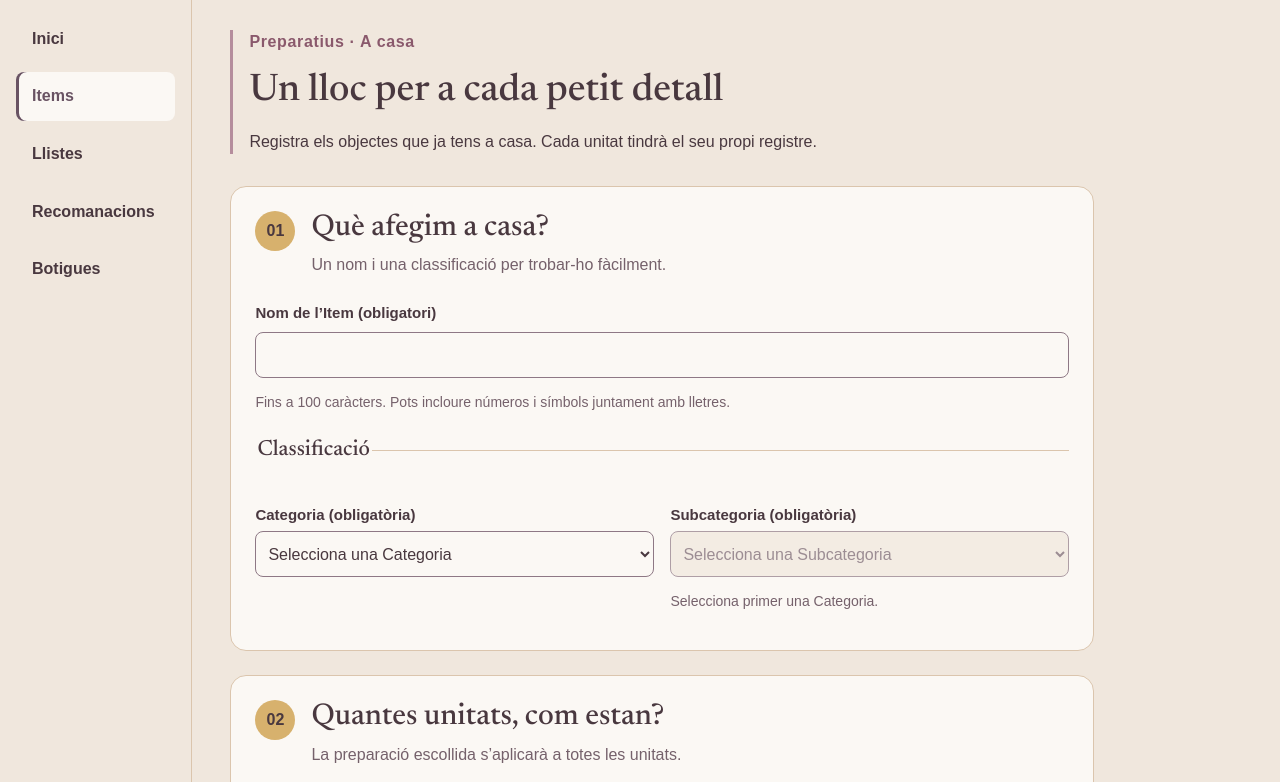
Test: errors servidor conserven dades i focus
Type "Body" into the field labelled "Nom de l’Item (obligatori)".
click(662, 355); type("Body")  # box 255,332 -> 1069,378
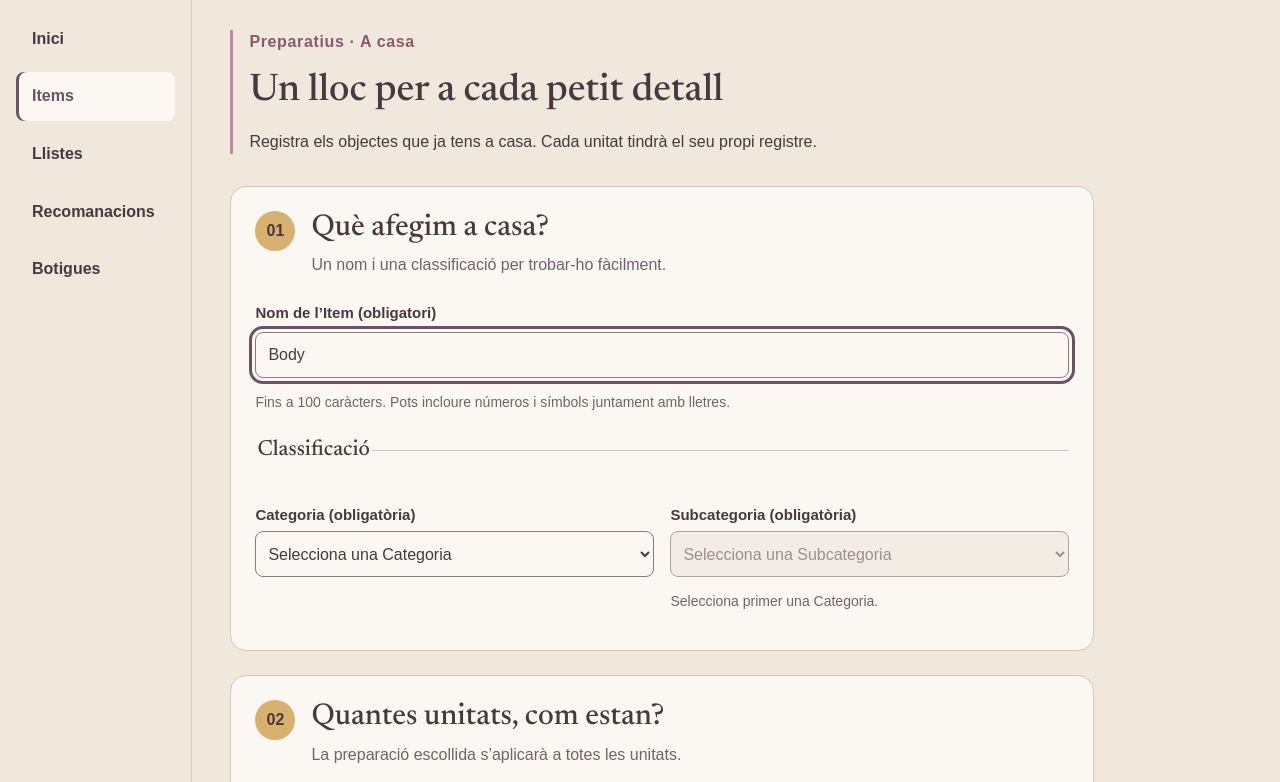
Select "Roba" in the dropdown labelled "Categoria (obligatòria)" at (455, 554), box 255,531 -> 654,577
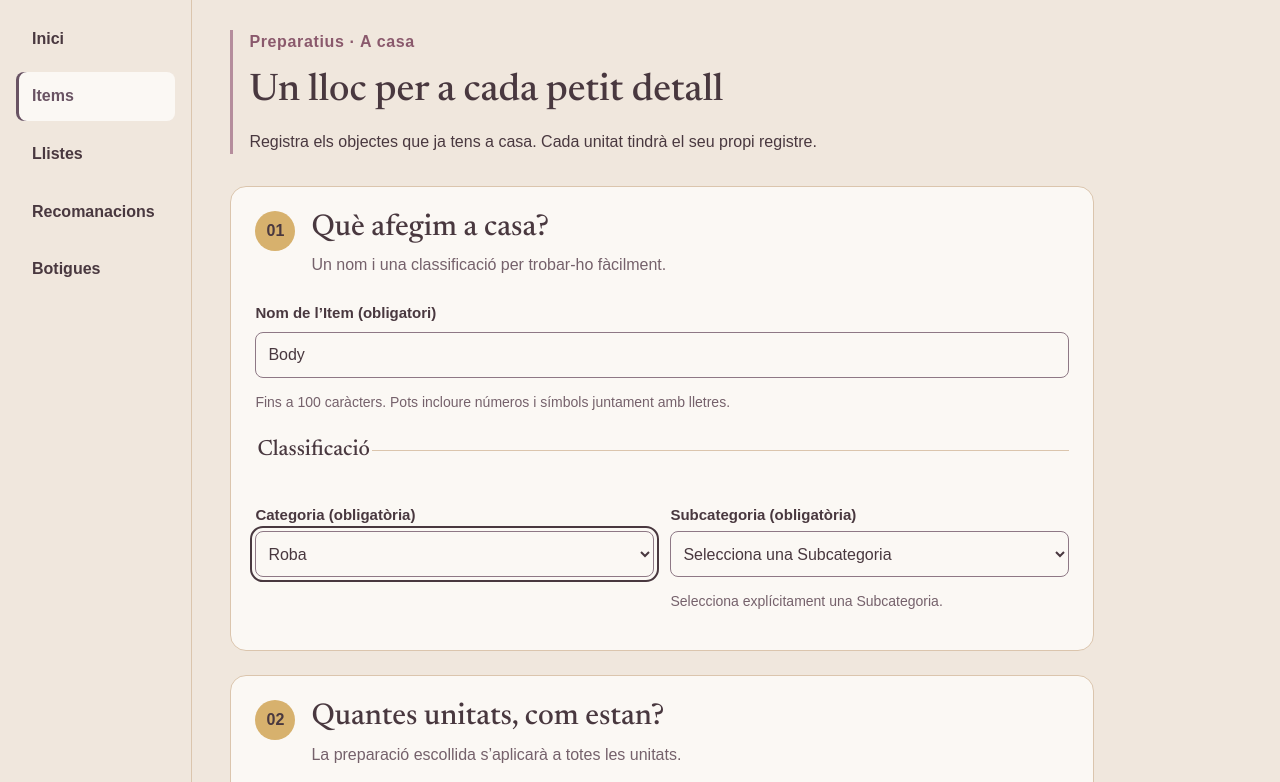
Select "Bodies" in the dropdown labelled "Subcategoria (obligatòria)" at (870, 554), box 670,531 -> 1069,577
(page scrolled)
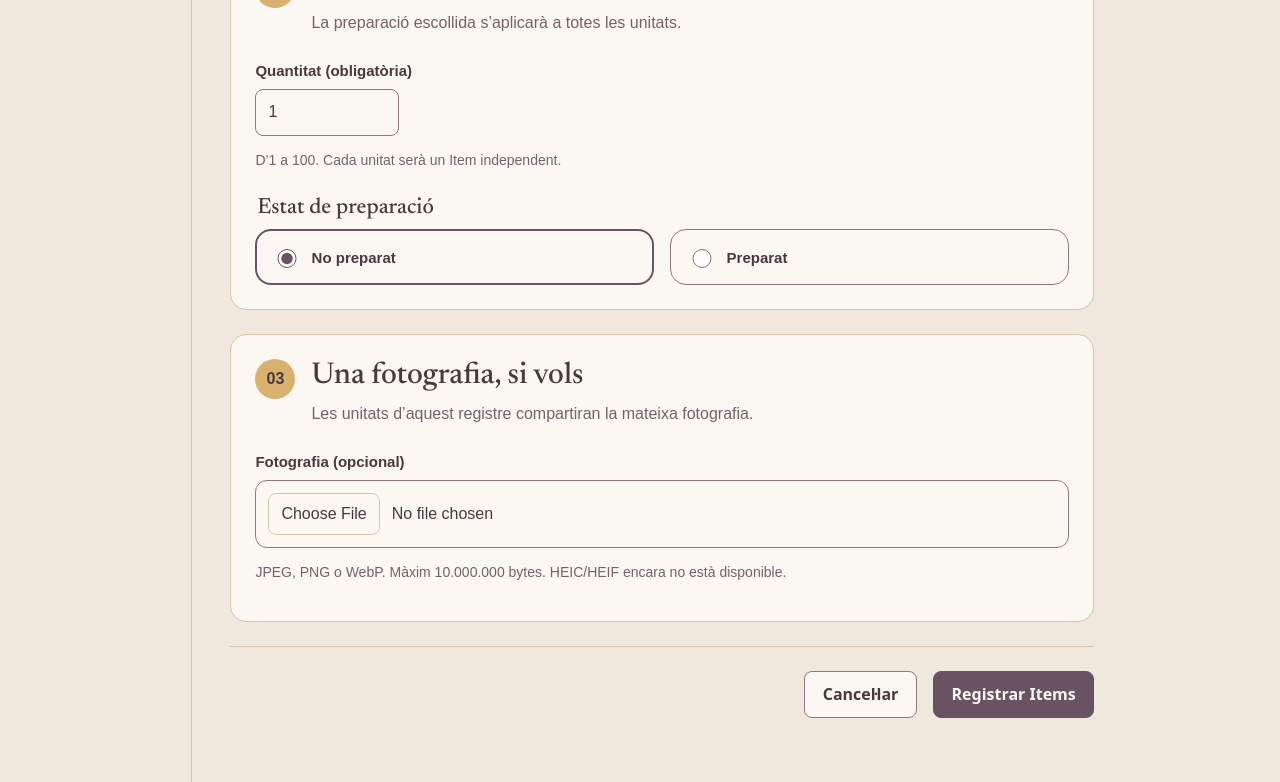
Click the button "Registrar Items".
click(1014, 695)  # box 933,671 -> 1094,718
(page scrolled)
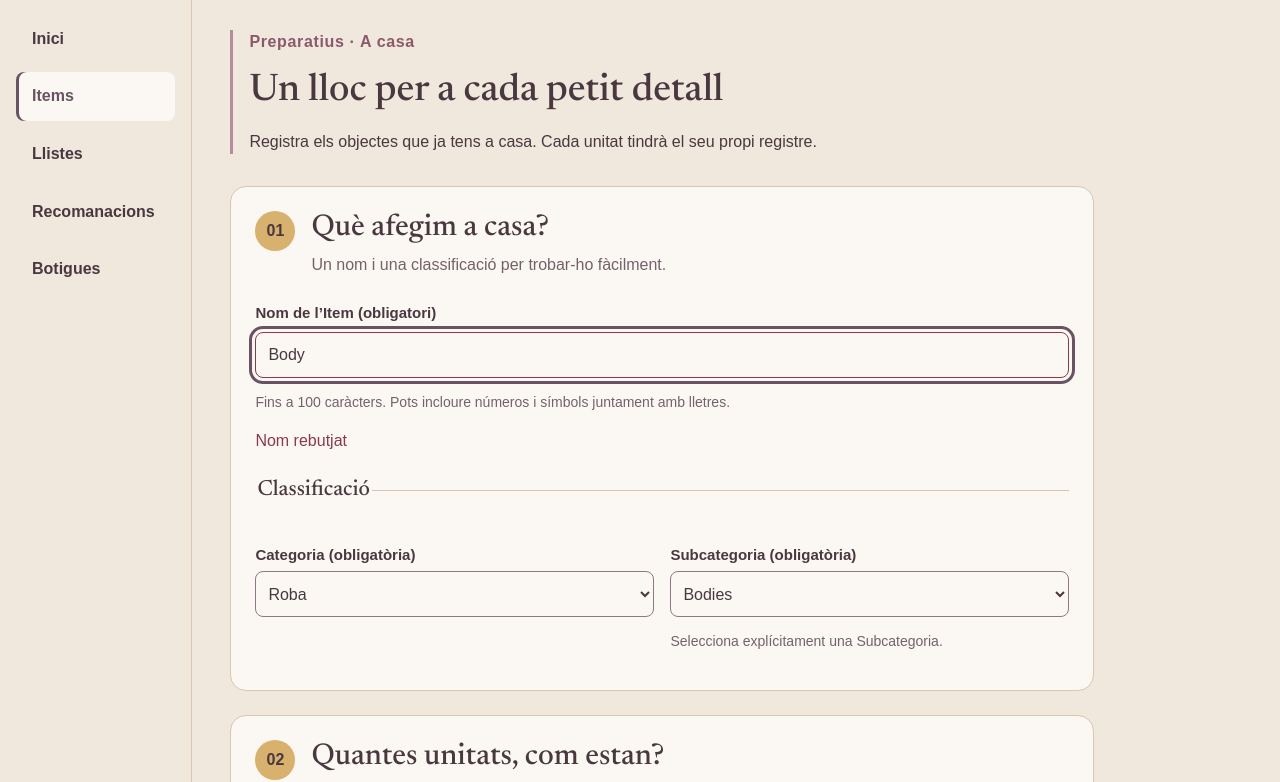
Check: the text "Nom rebutjat" is shown, box 255,432 -> 347,449
